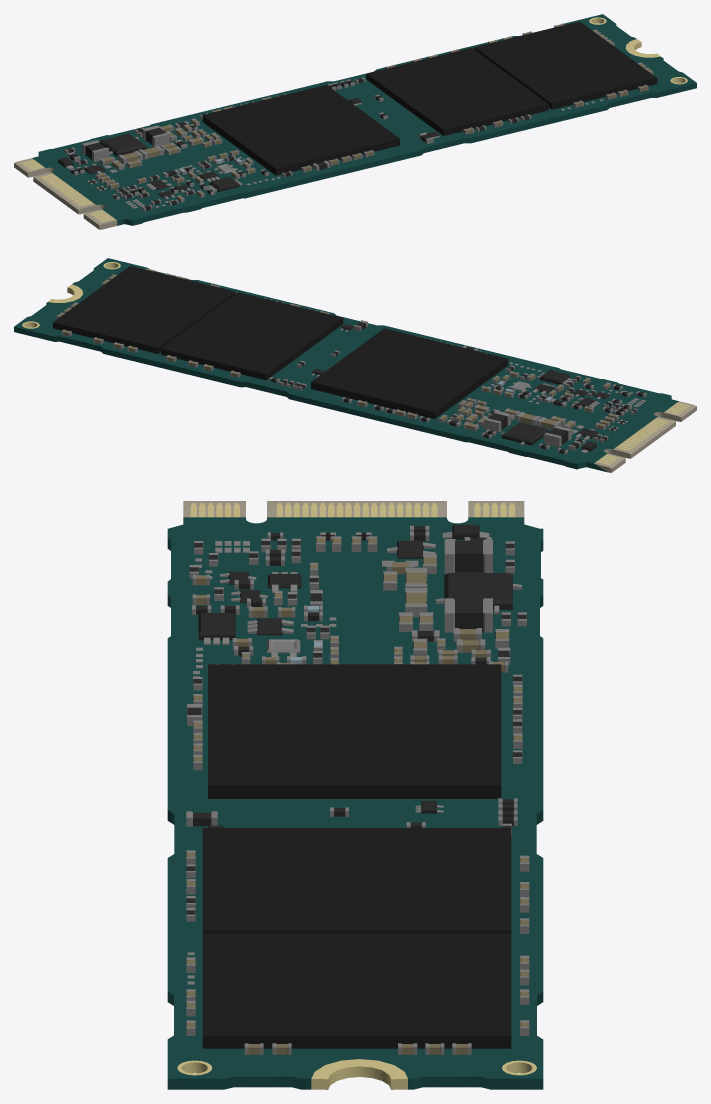
The model's file is ssd_noname_m2.glb.
3 renders of one model, top to bottom at view 1: azimuth 30°, elevation 25°; view 2: azimuth 150°, elevation 25°; view 3: azimuth 270°, elevation 25°, orthographic. The views are drawn at different scales.
Visible parts, largest first — view 1: Object_3, Object_2, Object_4; view 2: Object_3, Object_2, Object_4; view 3: Object_3, Object_2, Object_4.
Boxes of the visible parts, x1,y1,x2,y2 form: Object_3: [20, 21, 657, 222]; Object_2: [14, 14, 696, 229]; Object_4: [160, 36, 512, 151]; Object_3: [53, 266, 690, 464]; Object_2: [14, 258, 696, 472]; Object_4: [113, 342, 514, 426]; Object_3: [186, 503, 529, 1054]; Object_2: [167, 501, 543, 1089]; Object_4: [330, 612, 529, 985].
Bounding box in the file's own units: 9.57 × 0.2388 × 2.62.
Materials: 1 (1 with a texture image).
